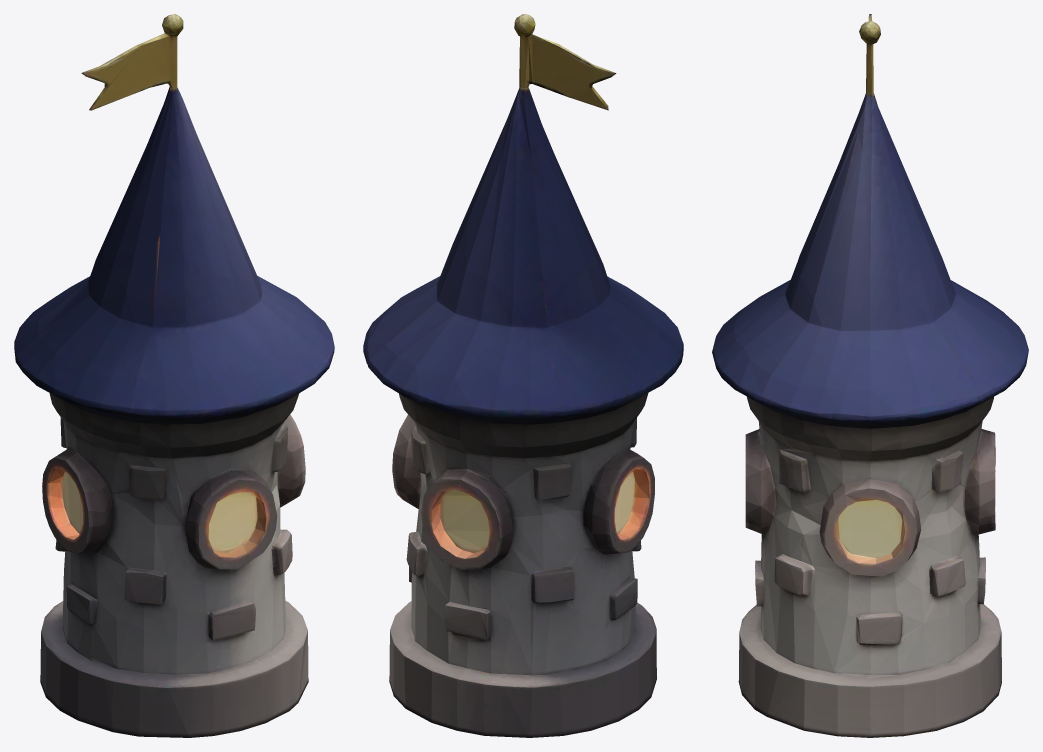
File: tower.glb
3 renders of one model, left to right at view 1: azimuth 30°, elevation 25°; view 2: azimuth 150°, elevation 25°; view 3: azimuth 270°, elevation 25°, orthographic.
Parts seen in each view (by area): view 1: world; view 2: world; view 3: world.
Boxes of the visible parts, x1,y1,x2,y2 form: world: (14,14,334,737); world: (363,14,683,737); world: (712,14,1028,737).
Size of the model in its own units: 0.431 by 0.9916 by 0.4316.
Materials: 1 (1 with a texture image).
